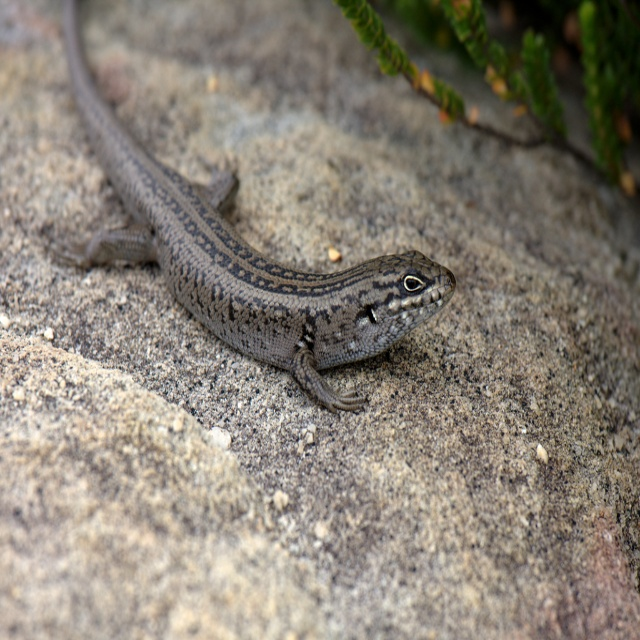Lizard: (48, 29, 468, 456)
